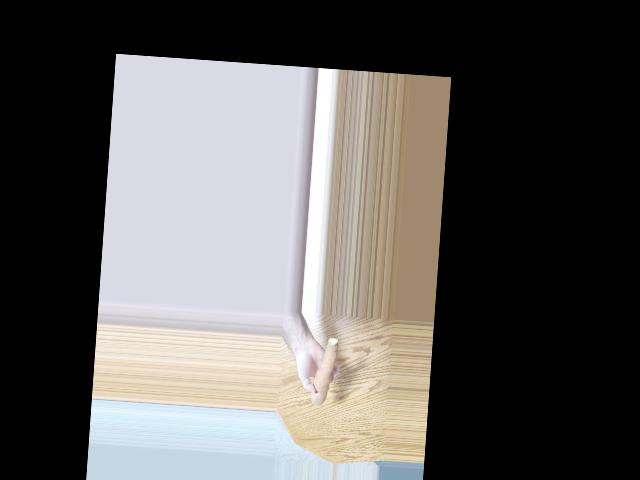sweet_potato: (314, 334, 337, 410)
